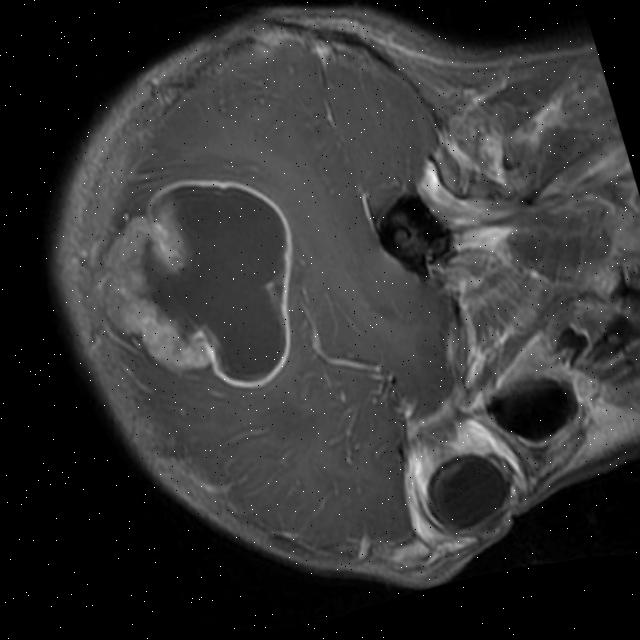Glioma: (68, 152, 332, 425)
